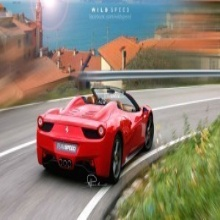no damage: (36, 86, 155, 186)
